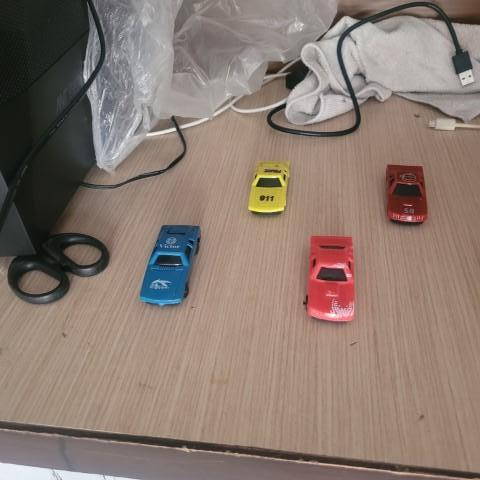car: (305, 230, 359, 326), (144, 221, 202, 306), (381, 161, 429, 226), (246, 156, 291, 214)
